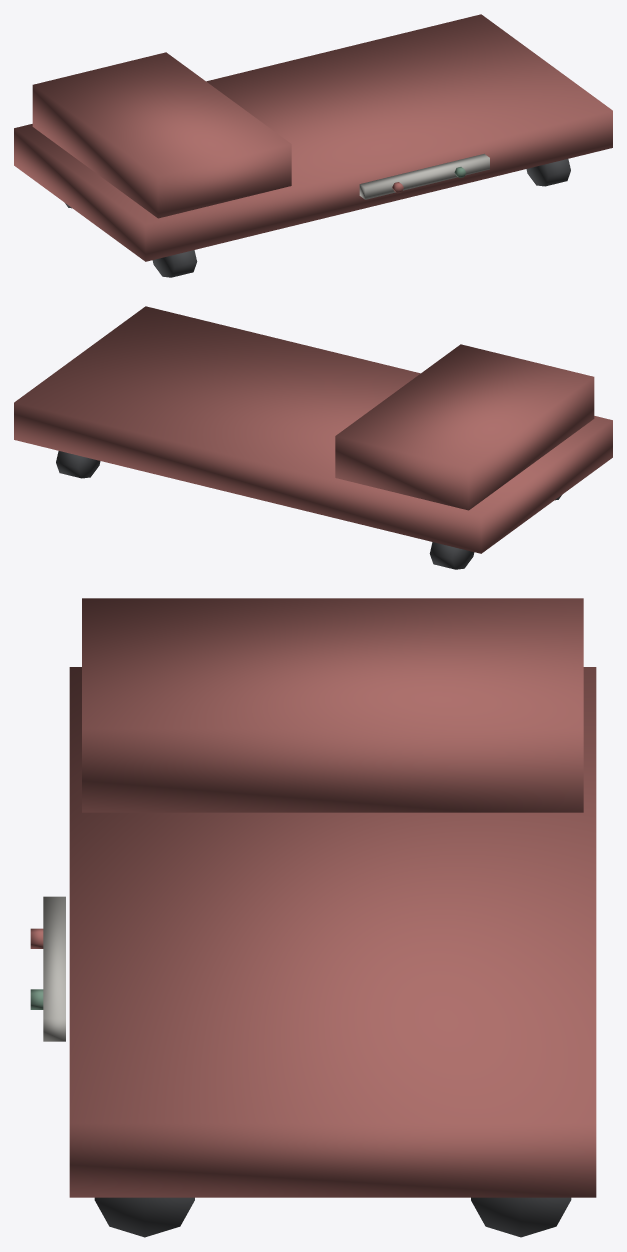
File: mechanic_creeper__deep.glb
The picture shows the model from 3 angles, top to bottom: view 1: azimuth 30°, elevation 25°; view 2: azimuth 150°, elevation 25°; view 3: azimuth 270°, elevation 25°; orthographic projection. The views are drawn at different scales.
Parts seen in each view (by area): view 1: world; view 2: world; view 3: world.
Part boxes in pixels (box(x1,y1,x2,y2)): world: box(14, 14, 612, 277); world: box(14, 306, 612, 569); world: box(30, 598, 596, 1237).
Size of the model in its own units: 1.05 by 0.25 by 0.5502.
